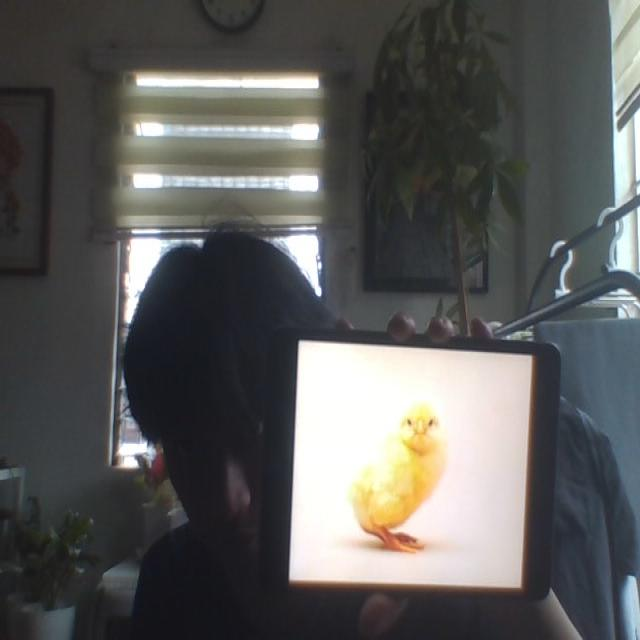Healthy: (350, 399, 448, 558)
